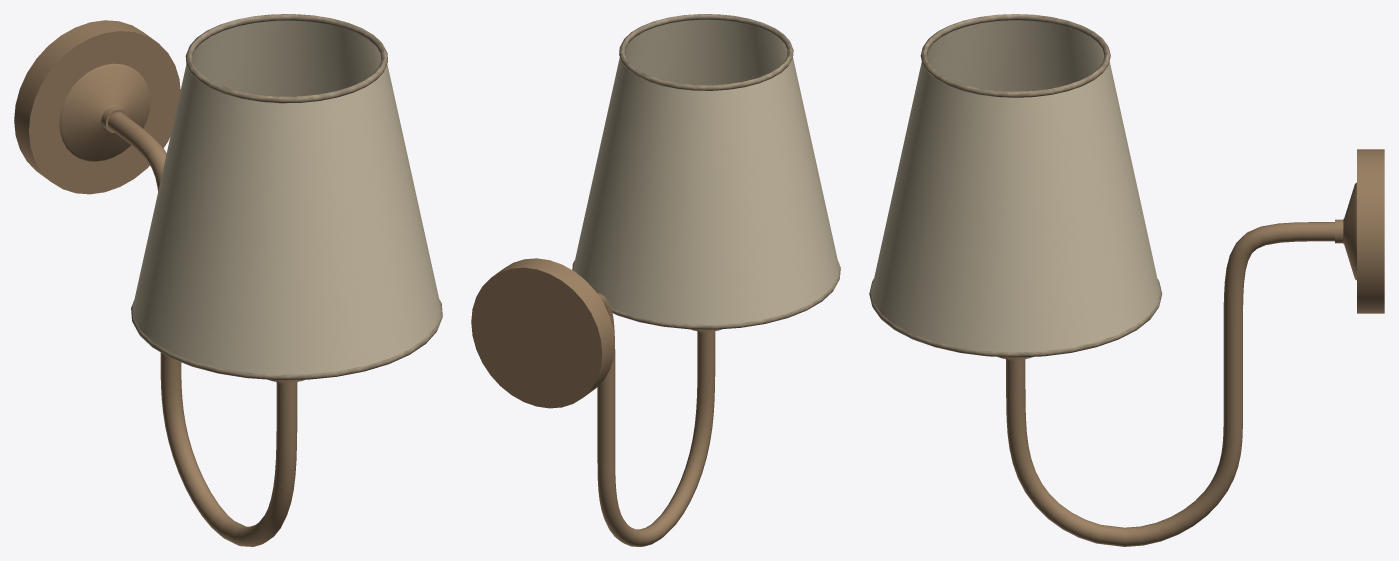
File: lamp.glb
The picture shows the model from 3 angles, left to right: view 1: azimuth 30°, elevation 25°; view 2: azimuth 150°, elevation 25°; view 3: azimuth 270°, elevation 25°; orthographic projection. The views are drawn at different scales.
Parts seen in each view (by area): view 1: Wall Lamp; view 2: Wall Lamp; view 3: Wall Lamp.
Part boxes in pixels (x1=…): Wall Lamp: x1=14, y1=14, x2=442, y2=546; Wall Lamp: x1=471, y1=14, x2=840, y2=546; Wall Lamp: x1=869, y1=14, x2=1384, y2=546.
Size of the model in its own units: 0.1508 by 0.28 by 0.2652.
Materials: 3 (2 with a texture image).
